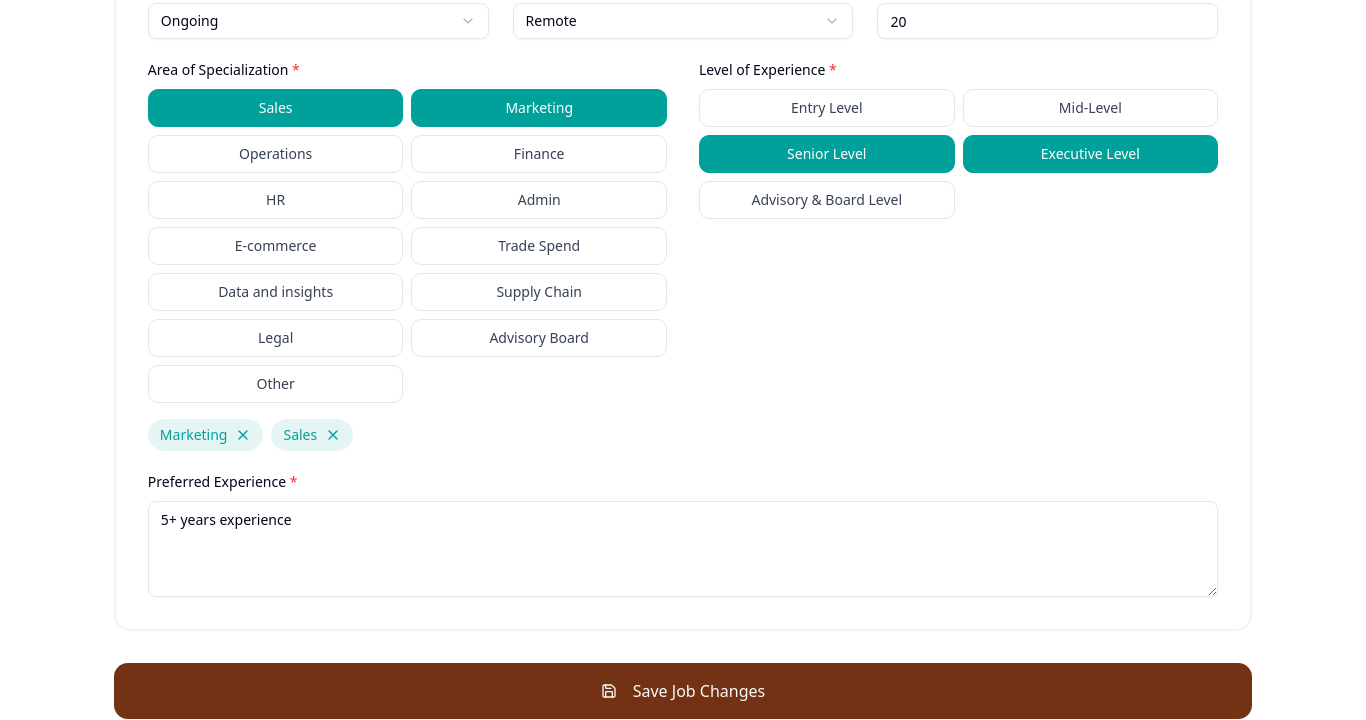
EditJobPage › Specialization Selection › shows Other input when clicked
(page scrolled)
Click the button "Other" at (276, 384), box [148,365,403,403]
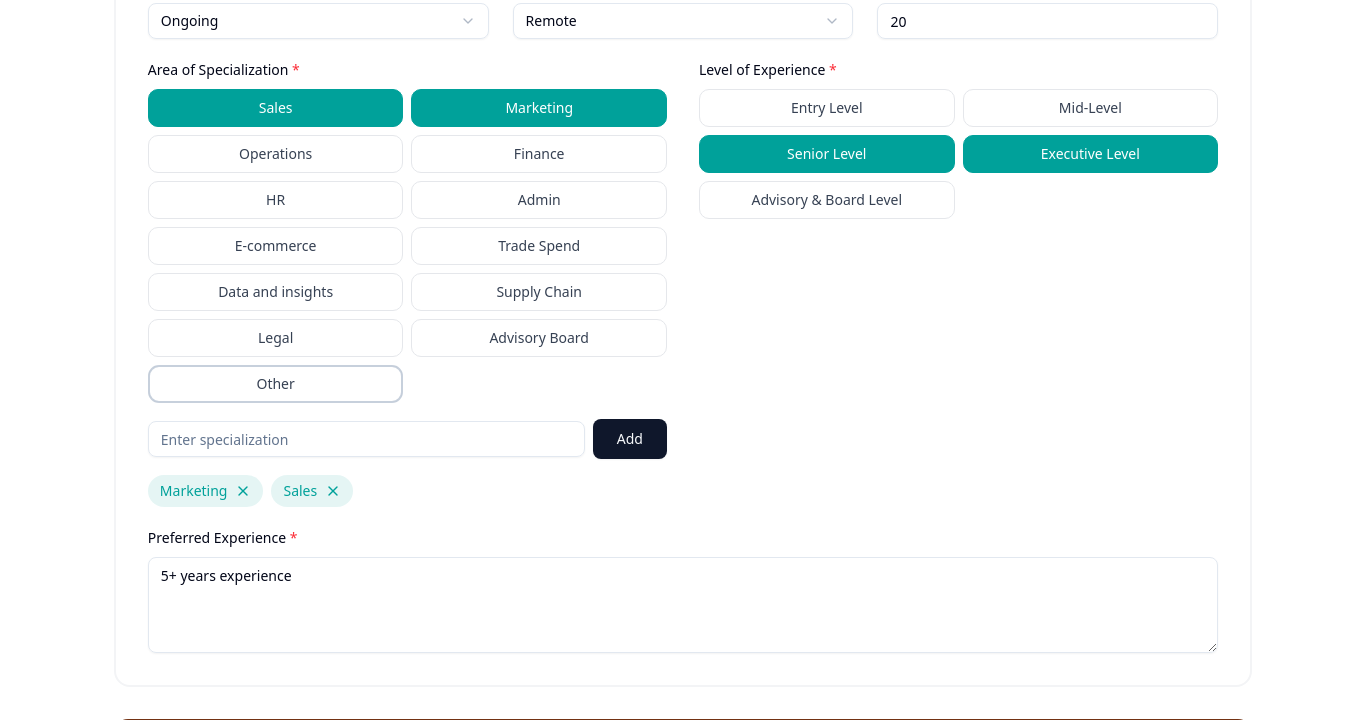
expect the field with placeholder "Enter specialization" is shown: met, box [148,421,585,457]
